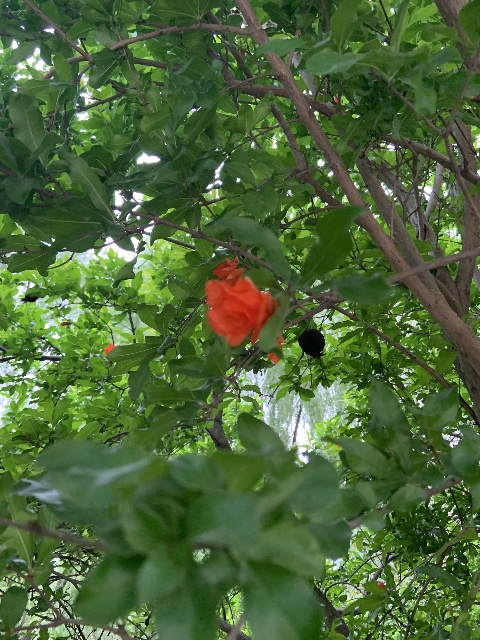bud: (60, 321, 69, 326)
flower: (204, 276, 279, 347), (212, 255, 246, 286), (266, 335, 284, 364), (103, 342, 118, 362)
